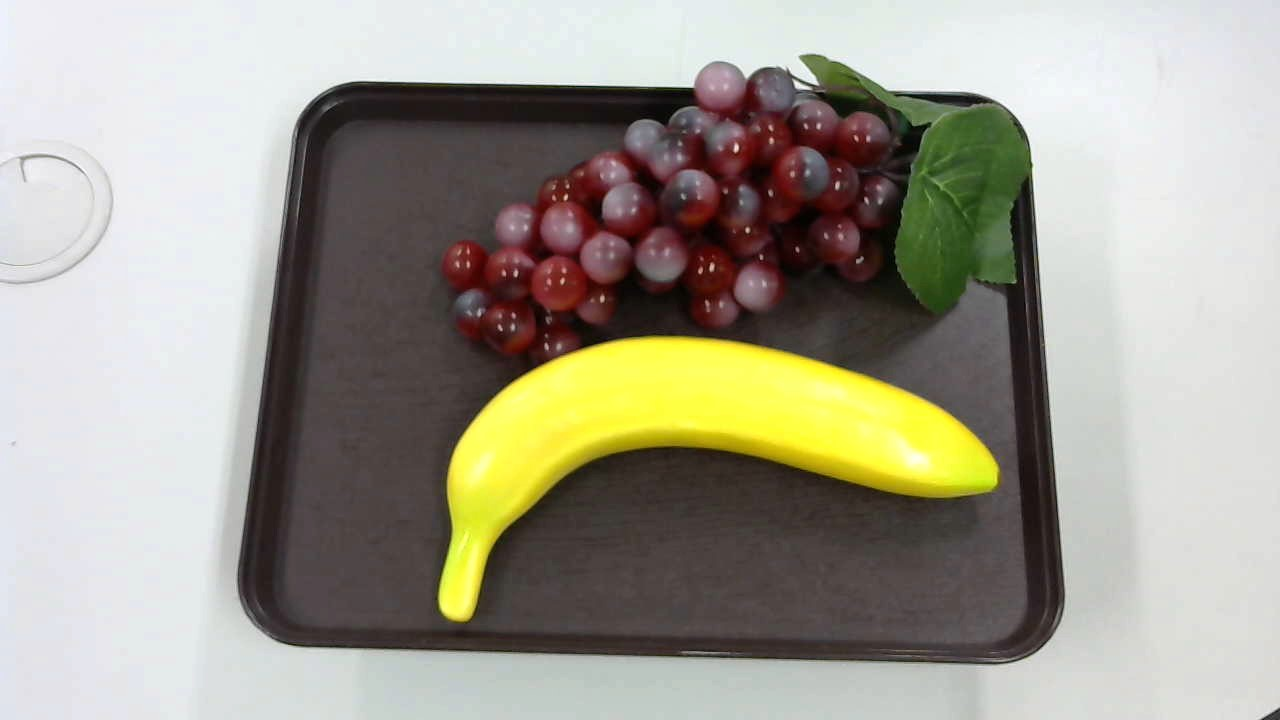banana: (434, 332, 1003, 622)
grape: (437, 52, 1047, 385)
